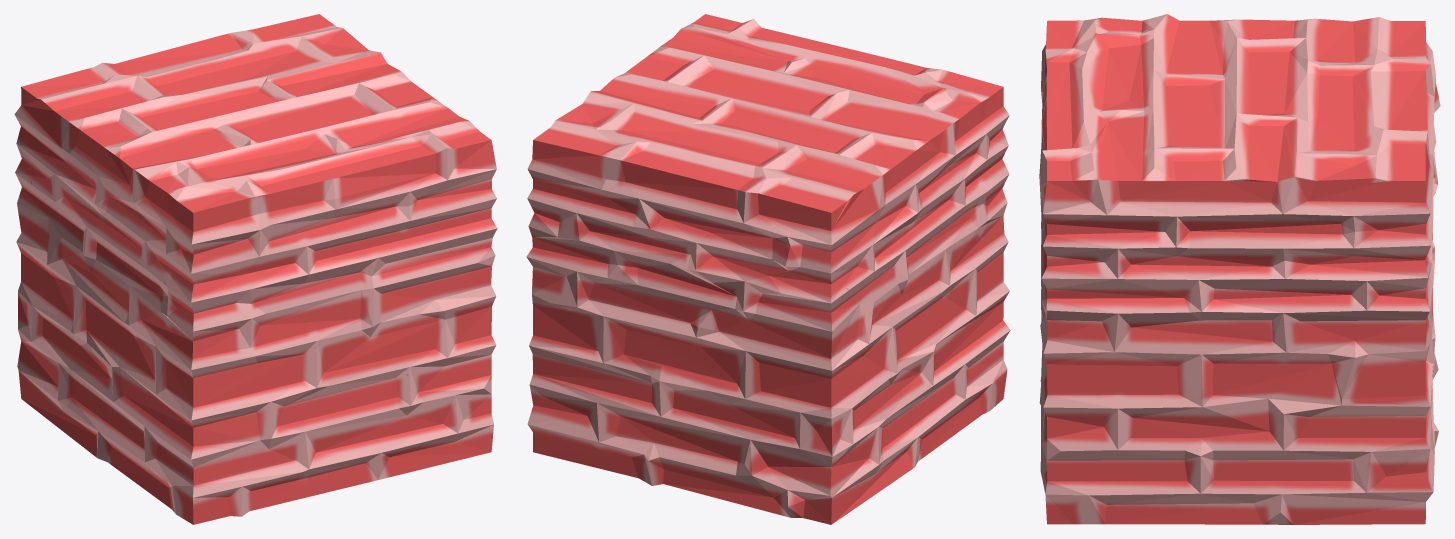
The model's file is BrickWallV2.fbx.
The picture shows the model from 3 angles, left to right: view 1: azimuth 30°, elevation 25°; view 2: azimuth 150°, elevation 25°; view 3: azimuth 270°, elevation 25°; orthographic projection. The views are drawn at different scales.
Parts seen in each view (by area): view 1: Cube; view 2: Cube; view 3: Cube.
Part boxes in pixels (box(x1,y1,x2,y2)): Cube: box(14, 14, 497, 524); Cube: box(526, 14, 1010, 524); Cube: box(1039, 14, 1440, 524).
Size of the model in its own units: 210 by 206 by 212.
